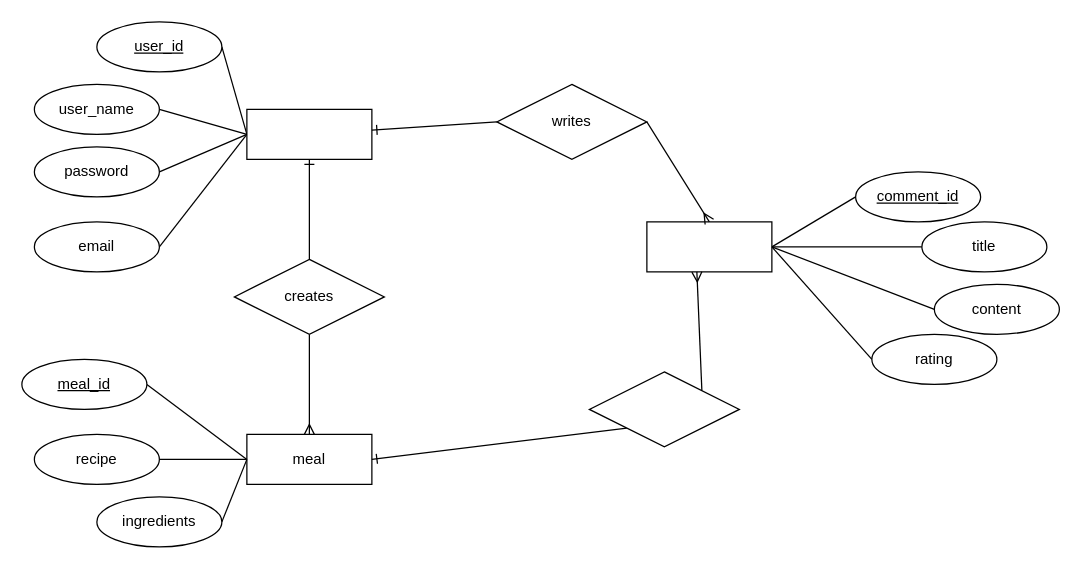
This 1081x569 diagram has some shape labels left out. Here are the shapes that lost their labels. From the top down, the centre of each, then its label:
(309,133): user
(709,246): comment
(663,409): has
